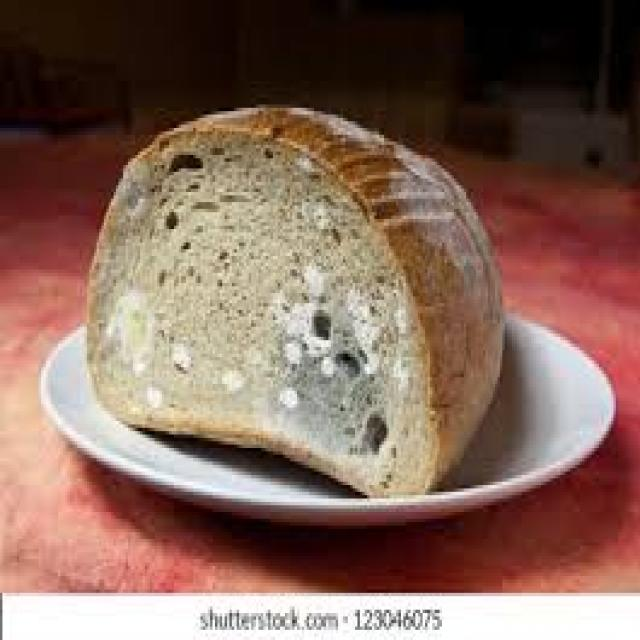organic waste: (82, 101, 502, 492)
